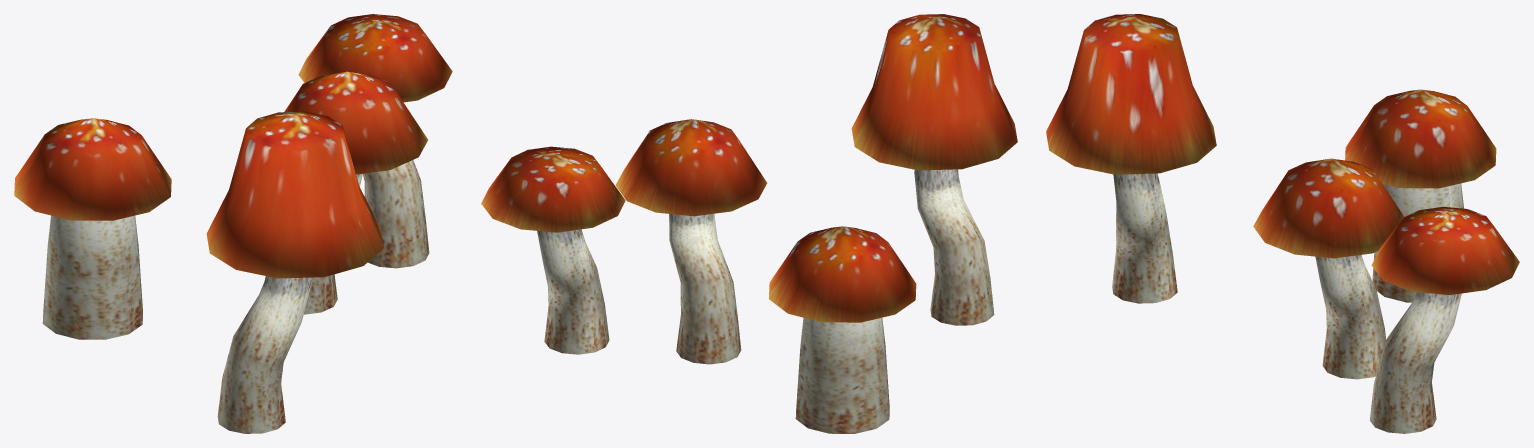
File: Shroom1-2.gltf
3 views of the same model, side by side, from view 1: azimuth 30°, elevation 25°; view 2: azimuth 150°, elevation 25°; view 3: azimuth 270°, elevation 25° (orthographic). The views are drawn at different scales.
Visible parts, largest first — view 1: Shroom1-2; view 2: Shroom1-2; view 3: Shroom1-2.
Boxes of the visible parts, x1=… form: Shroom1-2: x1=14, y1=14, x2=452, y2=433; Shroom1-2: x1=481, y1=14, x2=1017, y2=433; Shroom1-2: x1=1046, y1=14, x2=1519, y2=433.
Bounding box in the file's own units: 4.16 × 2.78 × 4.12.
Materials: 1 (1 with a texture image).
